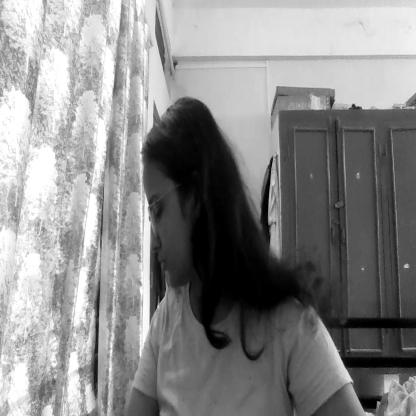Distracted: (134, 122, 227, 309)
